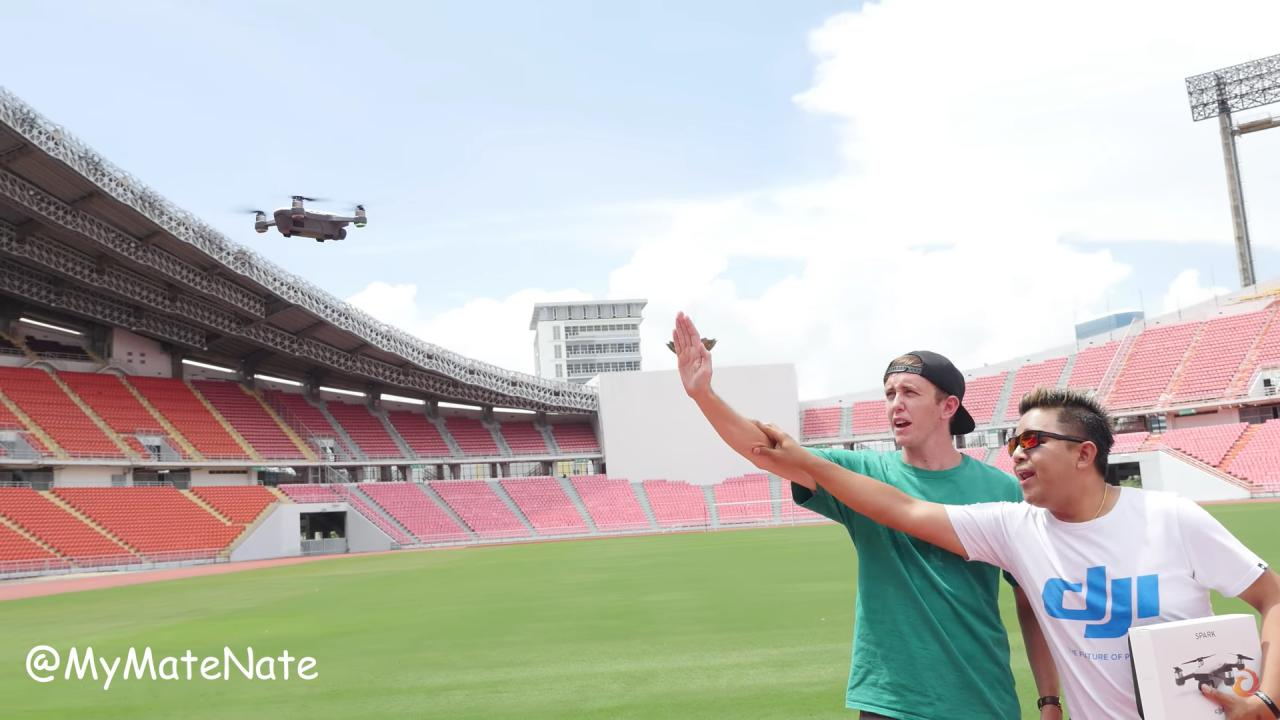Drone: (230, 183, 378, 255)
